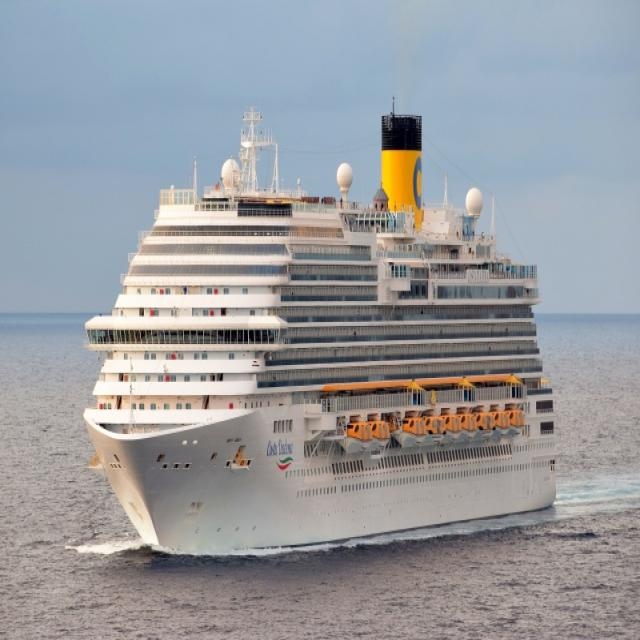cruises: (77, 105, 564, 547)
